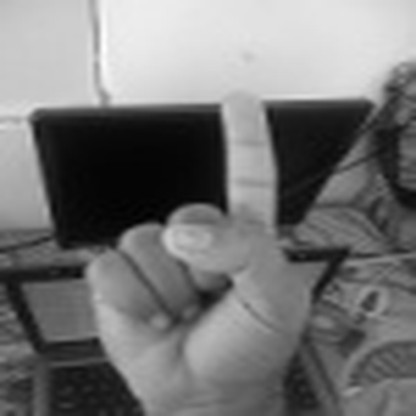d: (83, 91, 316, 414)
